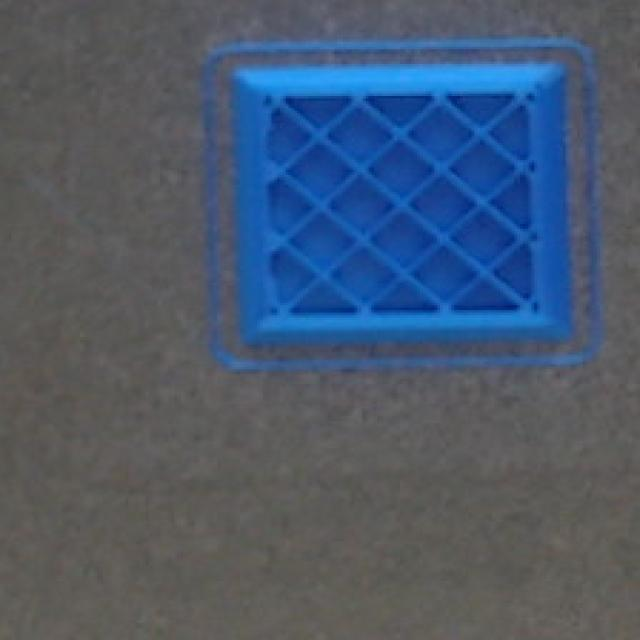noMistake: (206, 37, 597, 369)
